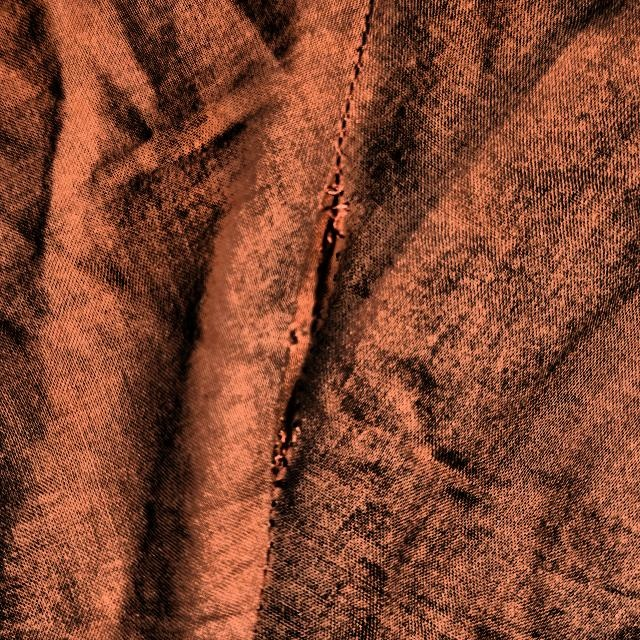seam: (204, 131, 436, 521)
